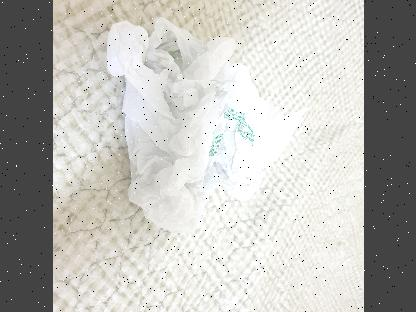Others: (101, 15, 307, 236)
